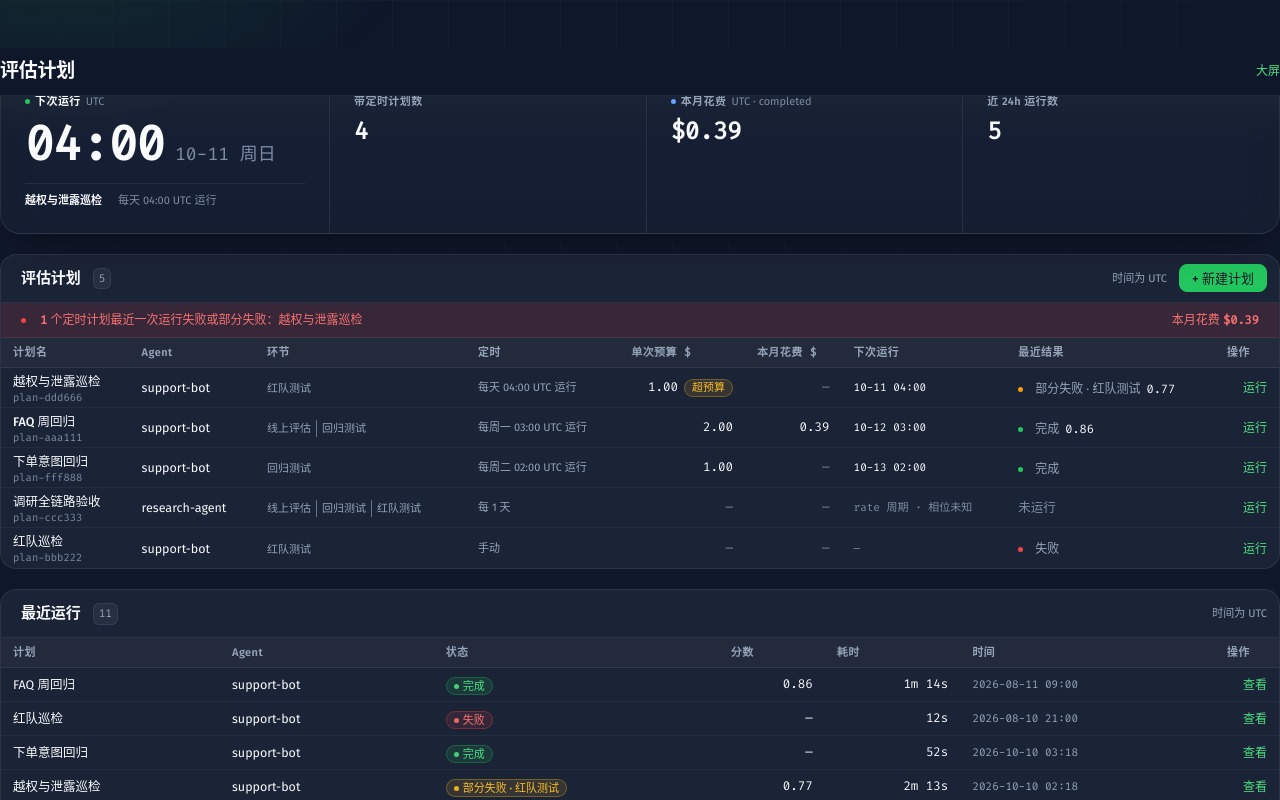
Test: 缺陷 1：后台 run 的可见性 › 框架层遗言帧（无 event 字段）同刑：透出 error_type + error
The width and height of the screenshot is (1280, 800).
Click the button "运行" in the row of "plan-aaa111" at [1255, 429], box [1243, 420, 1267, 437]
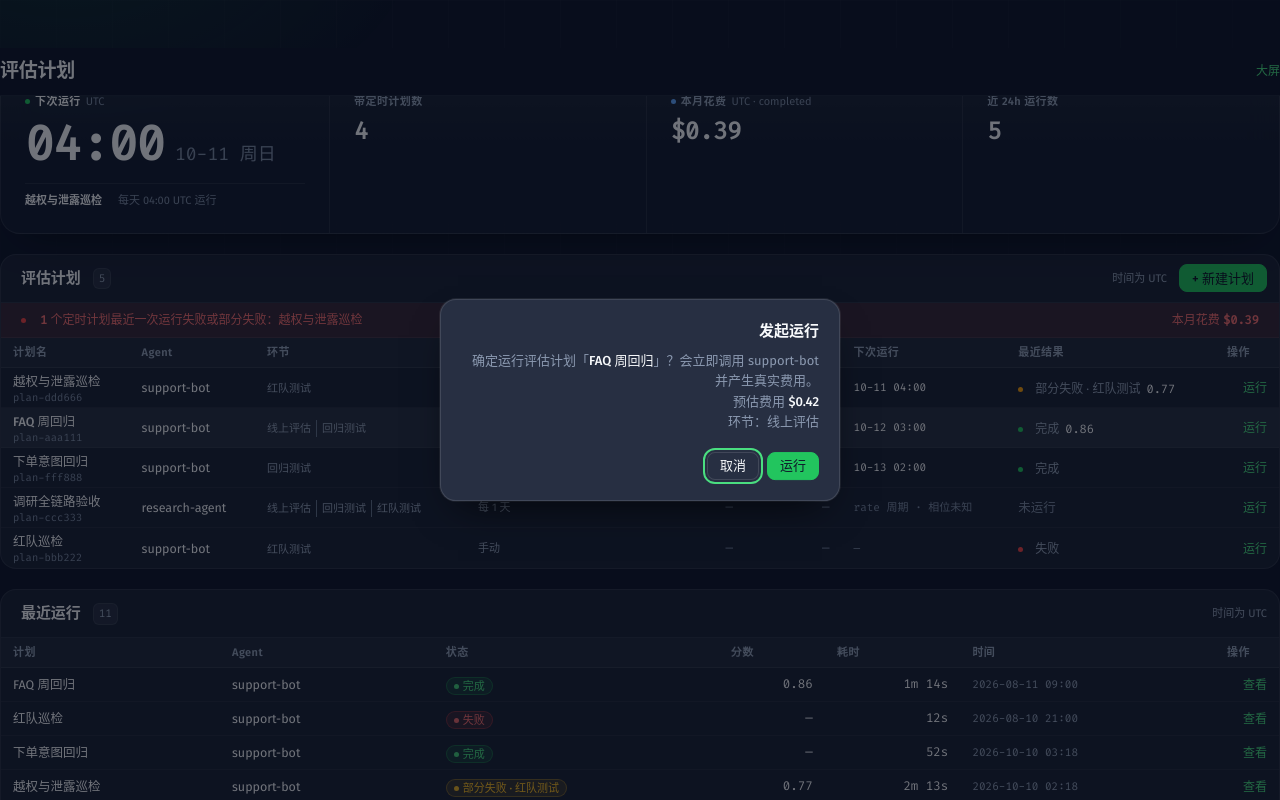
Click the button with test id "confirm-card-ok" at [793, 466], box [767, 452, 819, 480]
(page scrolled)
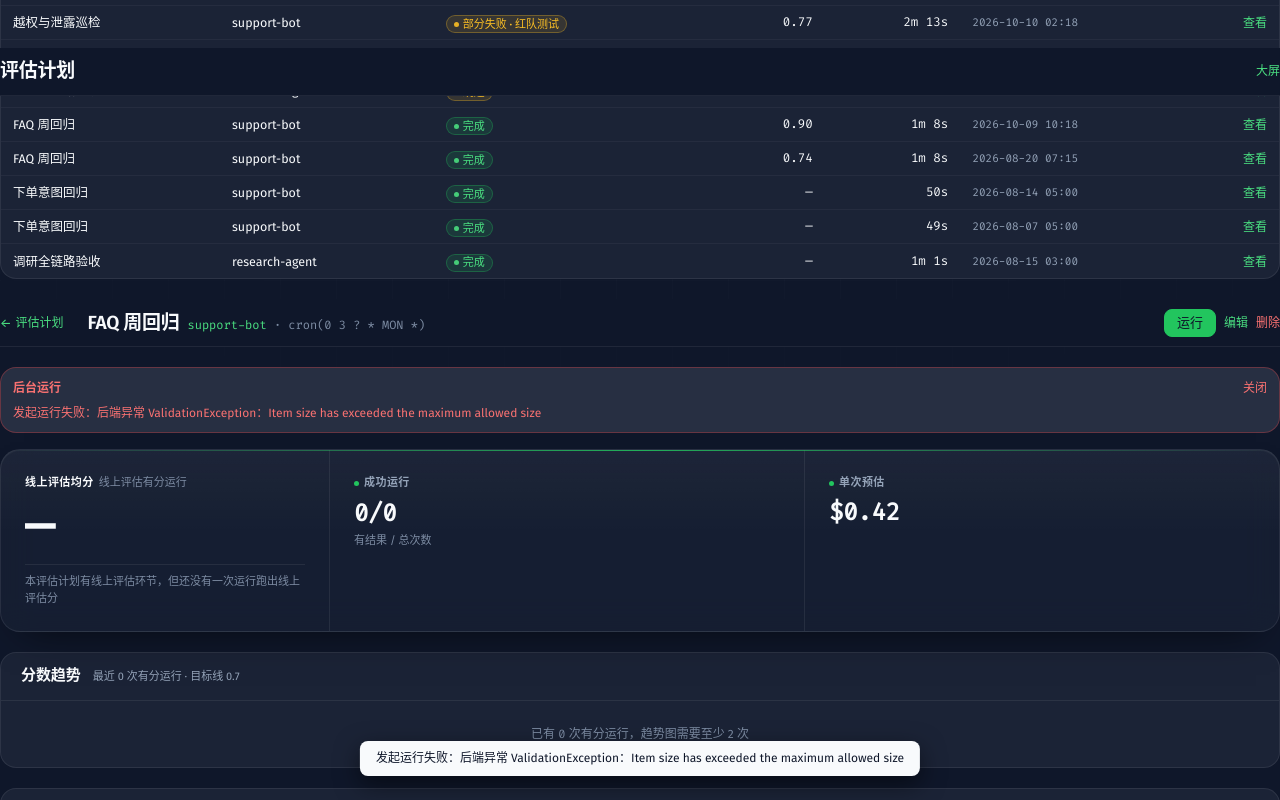
Check: the message with test id "plan-run-background-error" shows "ValidationException", box [13, 406, 541, 420]
Check: the message with test id "plan-run-background-error" shows "Item size has exceeded the maximum allowed size", box [13, 406, 541, 420]
